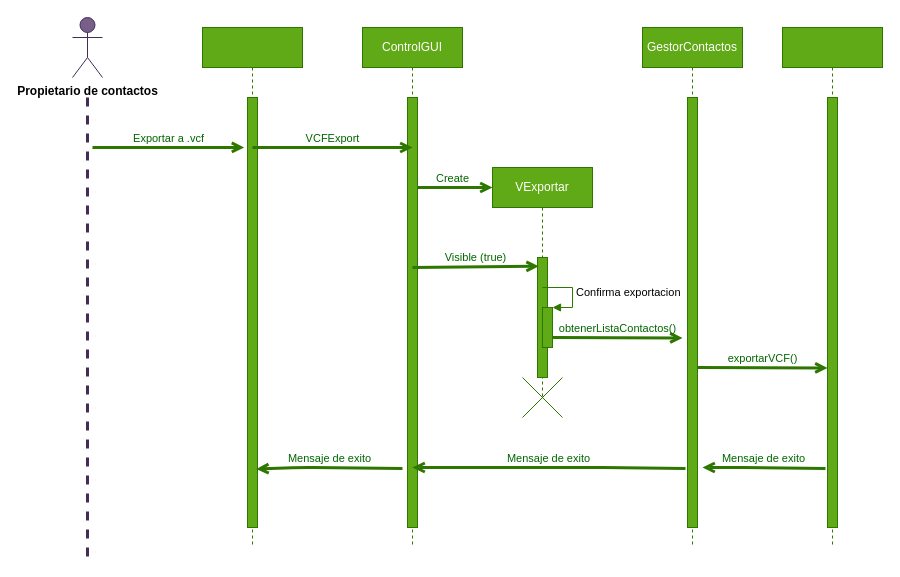
Image size: 900x577. Some labels were removed from this diagram. Here are the shapes that lost their labels. From the top down, the box of each, then its label:
(202, 26, 302, 548): vPrincipal
(782, 26, 882, 548): GestorArchivo
